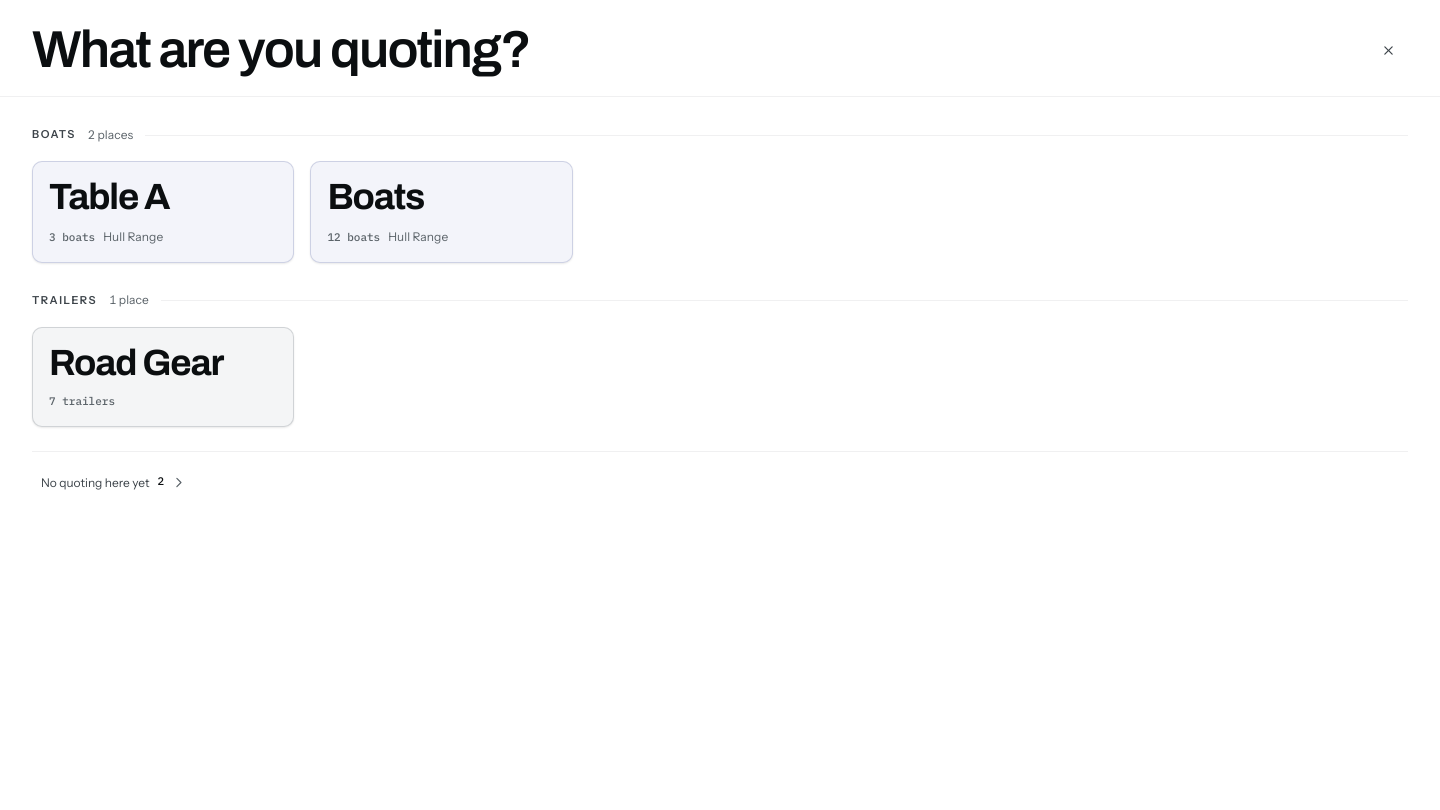
the shut band — the places with nothing to quote › gives every refusal in full when it is opened
The width and height of the screenshot is (1440, 810).
What coordinates should you click on to do the following:
click the button "No quoting here yet 2"
I would click on:
 (113, 482)
Its box is [32, 468, 194, 496].
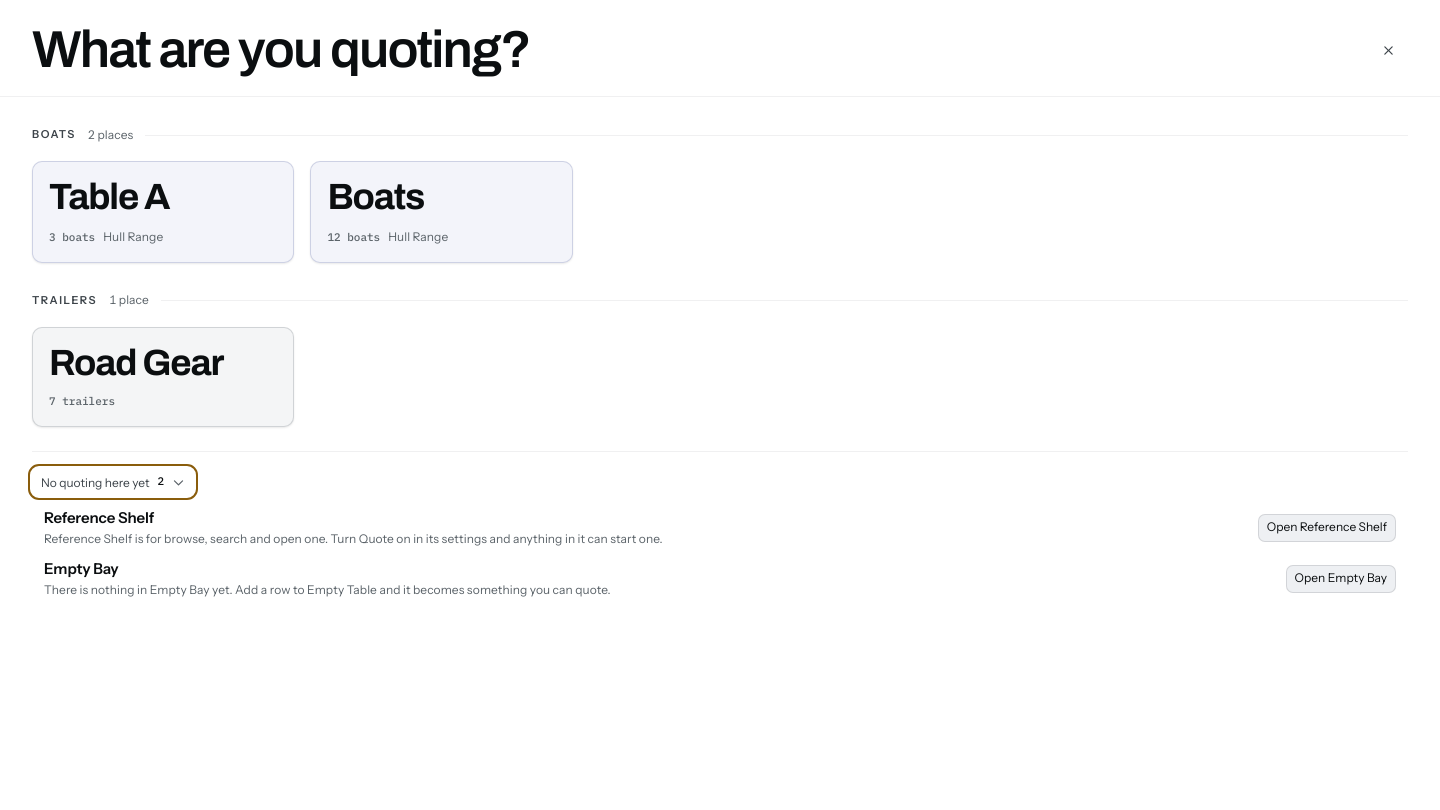
Now the text "Turn Quote on in its settings" is shown, box [44, 530, 663, 546]
Now the text "There is nothing in Empty Bay yet" is shown, box [44, 582, 611, 596]
